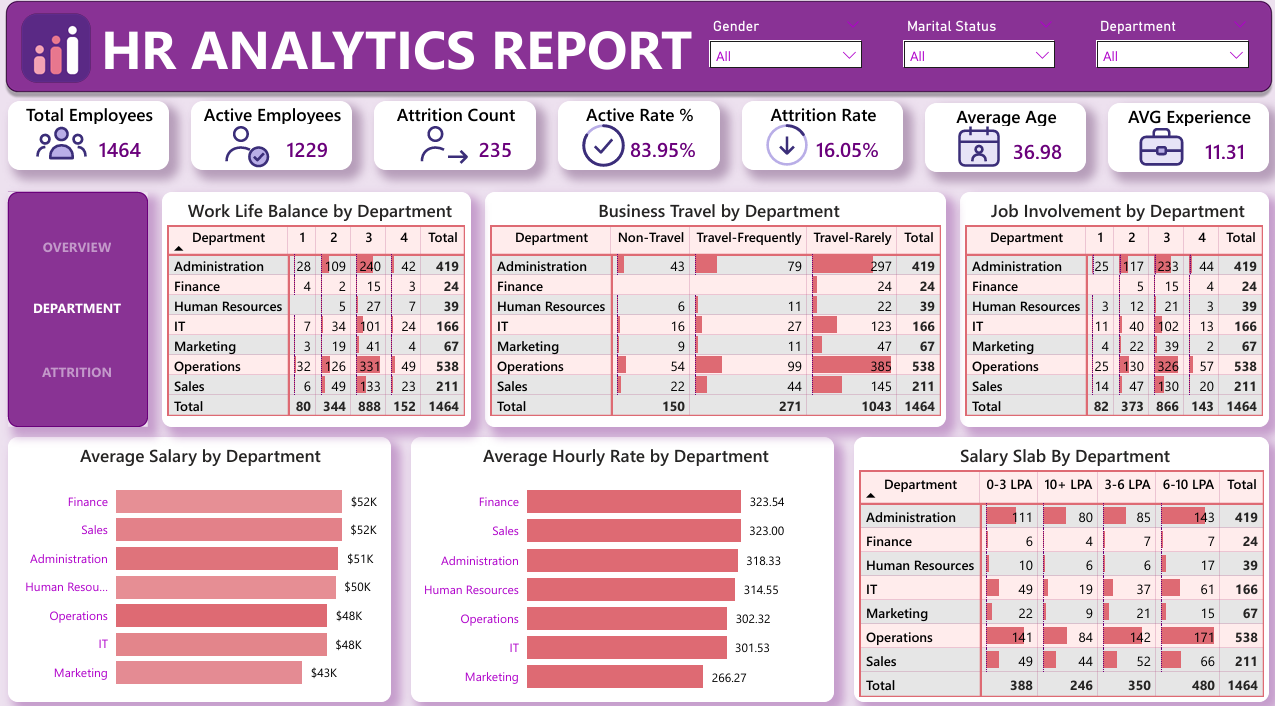

This screenshot's page, from the dashboard's own definition file:
{"tool":"powerbi","page":{"name":"DEPARTMENT","canvas":[1280,720],"ordinal":1},"visuals":[{"type":"shape","box":[0,0,1280,104.8],"z":0},{"type":"cardVisual","title":"Total Employees","fields":{"Data":["Measures (2).Total Employee"]},"box":[9.1,107,161,69],"z":0,"group":"g1"},{"type":"cardVisual","title":"Active Rate %","fields":{"Data":["Measures (2).Active Rate"]},"box":[559.5,107,161.6,69],"z":1000,"group":"g1"},{"type":"group","id":"g1","title":"Group 1","box":[9.1,107,1260.6,71.3],"z":2000},{"type":"cardVisual","title":"Attrition Count","fields":{"Data":["Measures (2).Inactive Employee"]},"box":[375.5,107,161.6,69],"z":2000,"group":"g1"},{"type":"cardVisual","title":"Active Employees","fields":{"Data":["Measures (2).Active Employee"]},"box":[192.6,107,160.4,69],"z":3000,"group":"g1"},{"type":"image","box":[35.3,120.7,54.7,55.8],"z":3000},{"type":"cardVisual","title":"Attrition Rate","fields":{"Data":["Measures (2).Attrition Rate"]},"box":[743.5,107,160.4,69],"z":4000,"group":"g1"},{"type":"image","box":[219.8,123,54.7,55.8],"z":4000},{"type":"cardVisual","title":"Average Age","fields":{"Data":["Measures (2).Average Age"]},"box":[926.4,109.3,160.4,69],"z":5000,"group":"g1"},{"type":"image","box":[952.6,123.8,54.3,55.9],"z":5000},{"type":"cardVisual","title":"AVG Experience","fields":{"Data":["Measures (2).Average Experience"]},"box":[1109.3,109.3,160.4,69],"z":6000,"group":"g1"},{"type":"image","box":[416.8,123,54.7,55.8],"z":6000},{"type":"image","box":[577.4,123,54.7,55.8],"z":7000},{"type":"image","box":[1135.4,123,54.7,55.8],"z":8000},{"type":"barChart","title":"Average Salary by Department","fields":{"Category":["HR_Analytics-4.Department"],"Y":["Measures (2).AVG Income"]},"box":[9.1,443,382.6,265.3],"z":9000},{"type":"shape","box":[8.8,197.5,140,235],"z":10000},{"type":"shape","box":[19.4,220.9,117.3,62.6],"z":11000},{"type":"shape","box":[19.4,282.4,117.3,62.6],"z":12000},{"type":"shape","box":[19.4,346.2,117.3,62.6],"z":13000},{"type":"pivotTable","title":"Job Involvement by Department","fields":{"Rows":["HR_Analytics-4.Department"],"Columns":["HR_Analytics-4.JobInvolvement"],"Values":["CountNonNull(HR_Analytics-4.JobInvolvement)"]},"box":[961.1,198.1,308.6,234.6],"z":15000},{"type":"clusteredBarChart","title":"Salary Slab by Department","fields":{"Category":["HR_Analytics-4.Department"],"Y":["Measures (2).Attrition Rate"]},"box":[854.1,443,415.7,265.3],"z":16000},{"type":"clusteredBarChart","title":"Average Hourly Rate by Department","fields":{"Category":["HR_Analytics-4.Department"],"Y":["Measures (2).AVG Hourly Rate"]},"box":[411.1,443,423.6,265.3],"z":17000},{"type":"pivotTable","title":"Business Travel by Department","fields":{"Rows":["HR_Analytics-4.Department"],"Columns":["HR_Analytics-4.BusinessTravel"],"Values":["Measures (2).Employee Count"]},"box":[486.5,198.1,460.1,234.6],"z":18000},{"type":"pivotTable","title":"Work Life Balance by Department","fields":{"Rows":["HR_Analytics-4.Department"],"Columns":["HR_Analytics-4.WorkLifeBalance"],"Values":["CountNonNull(HR_Analytics-4.WorkLifeBalance)"]},"box":[163.3,198.1,308.6,234.6],"z":21000},{"type":"image","box":[760.7,123,54.7,55.8],"z":22000},{"type":"shape","box":[78.6,0,637.7,104.8],"z":22001},{"type":"slicer","fields":{"Values":["HR_Analytics-4.Gender"]},"box":[701.5,19.4,172,69.5],"z":22002},{"type":"image","box":[0,5.7,113.9,96.8],"z":22003},{"type":"slicer","fields":{"Values":["HR_Analytics-4.Gender"]},"box":[894.5,19.4,172,69.5],"z":22004},{"type":"slicer","fields":{"Values":["HR_Analytics-4.Gender"]},"box":[1087.5,19.4,172,69.5],"z":22005}]}

Visuals, with their boxes in screenshot pixels (x1, y1, x2, y2), scaled from the page's 1280x720 canvas onto the 1275x706 screenshot:
shape: BBox(0, 0, 1274, 103)
"Total Employees" cardVisual: BBox(9, 105, 169, 173)
"Active Rate %" cardVisual: BBox(557, 105, 718, 173)
"Group 1" group: BBox(9, 105, 1265, 175)
"Attrition Count" cardVisual: BBox(374, 105, 535, 173)
"Active Employees" cardVisual: BBox(192, 105, 352, 173)
image: BBox(35, 118, 90, 173)
"Attrition Rate" cardVisual: BBox(741, 105, 900, 173)
image: BBox(219, 121, 273, 175)
"Average Age" cardVisual: BBox(923, 107, 1083, 175)
image: BBox(949, 121, 1003, 176)
"AVG Experience" cardVisual: BBox(1105, 107, 1265, 175)
image: BBox(415, 121, 470, 175)
image: BBox(575, 121, 630, 175)
image: BBox(1131, 121, 1185, 175)
"Average Salary by Department" barChart: BBox(9, 434, 390, 695)
shape: BBox(9, 194, 148, 424)
shape: BBox(19, 217, 136, 278)
shape: BBox(19, 277, 136, 338)
shape: BBox(19, 339, 136, 401)
"Job Involvement by Department" pivotTable: BBox(957, 194, 1265, 424)
"Salary Slab by Department" clusteredBarChart: BBox(851, 434, 1265, 695)
"Average Hourly Rate by Department" clusteredBarChart: BBox(409, 434, 831, 695)
"Business Travel by Department" pivotTable: BBox(485, 194, 943, 424)
"Work Life Balance by Department" pivotTable: BBox(163, 194, 470, 424)
image: BBox(758, 121, 812, 175)
shape: BBox(78, 0, 714, 103)
slicer - HR_Analytics-4.Gender: BBox(699, 19, 870, 87)
image: BBox(0, 6, 113, 101)
slicer - HR_Analytics-4.Gender: BBox(891, 19, 1062, 87)
slicer - HR_Analytics-4.Gender: BBox(1083, 19, 1255, 87)
